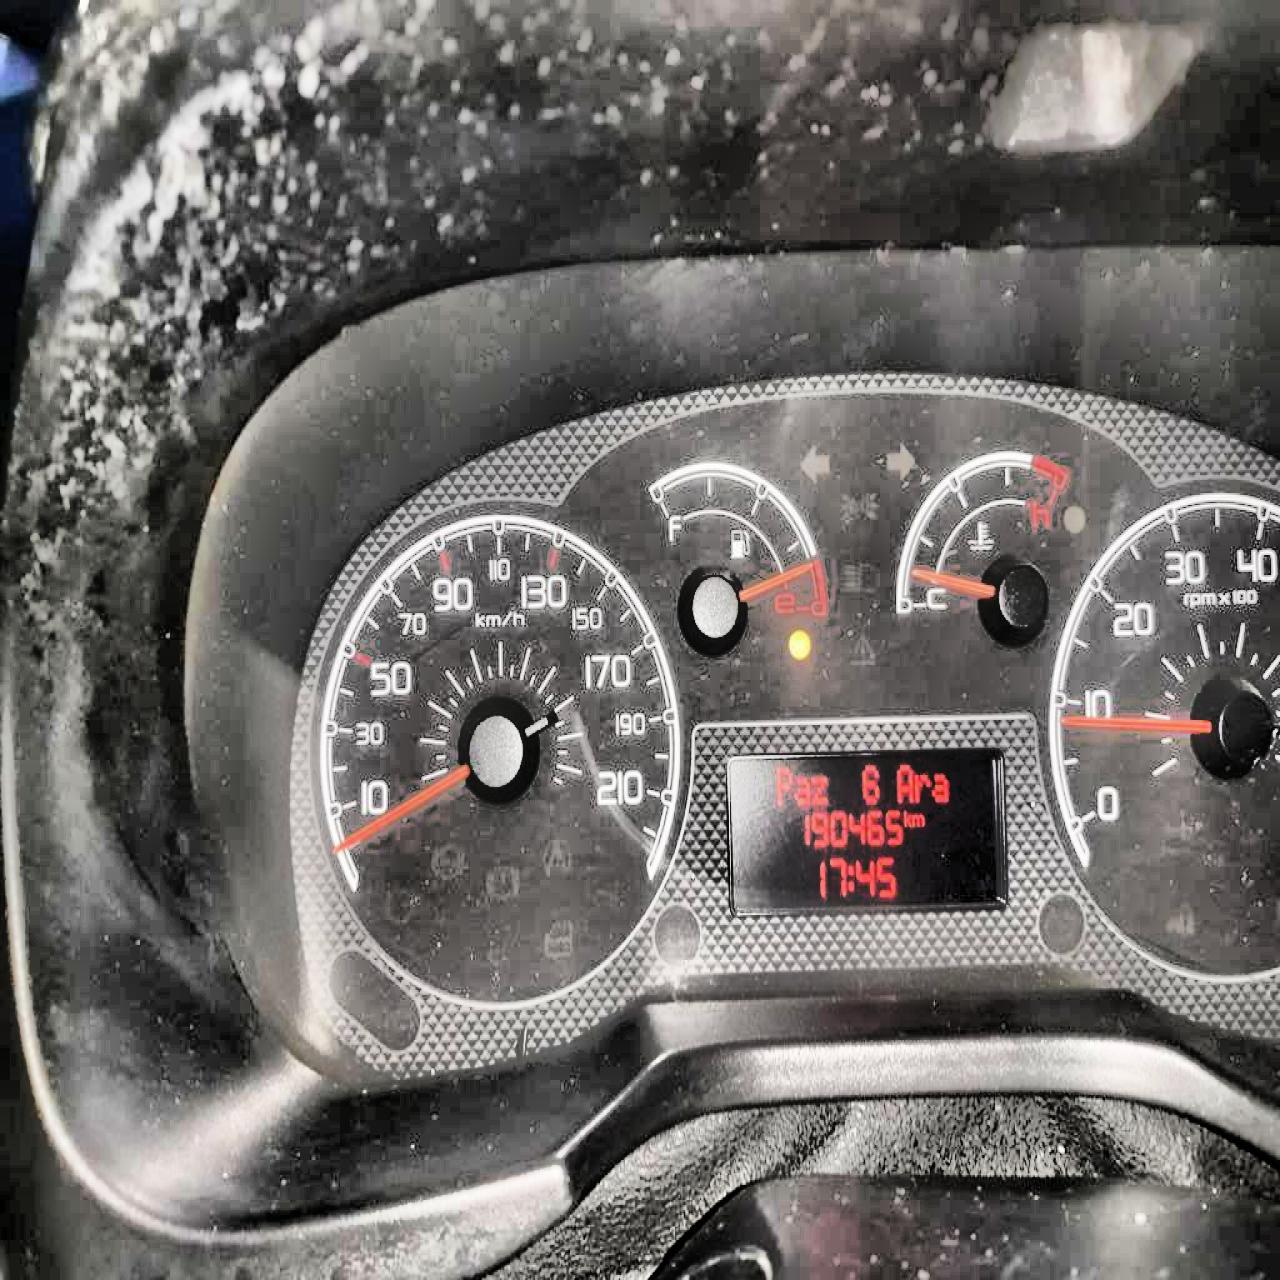0: (829, 809, 846, 845)
1: (815, 857, 828, 898), (799, 810, 810, 845)
4: (855, 856, 874, 897), (847, 810, 865, 845)
5: (874, 855, 896, 898), (884, 806, 903, 845)
6: (860, 762, 879, 803), (866, 806, 884, 845)
7: (828, 855, 846, 898)
9: (810, 810, 829, 846)
X: (774, 763, 792, 806), (896, 762, 913, 803), (931, 770, 949, 803), (810, 774, 829, 805), (794, 774, 810, 805), (914, 770, 930, 802), (846, 862, 853, 893), (911, 810, 924, 826), (903, 806, 912, 826)
odometer: (723, 747, 1006, 918)
